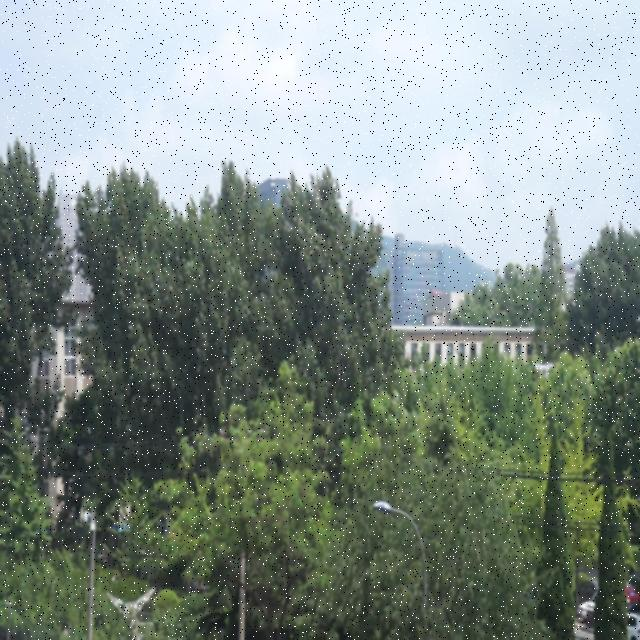UAV: (533, 363, 554, 378)
